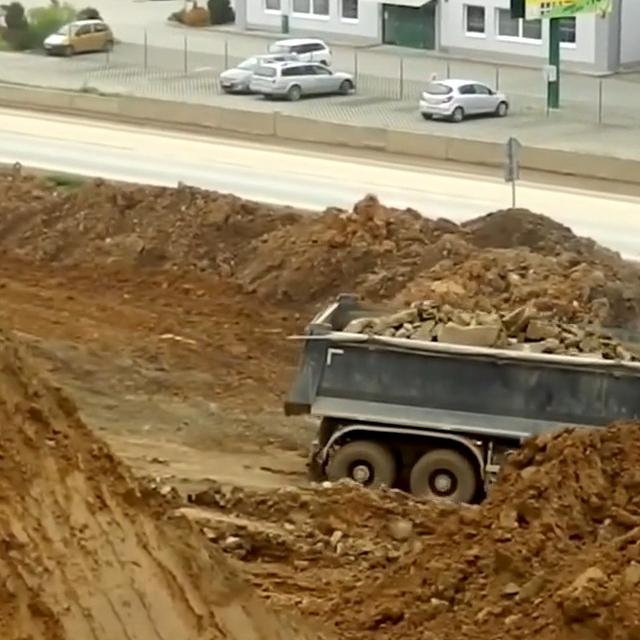dump truck: (279, 289, 640, 506)
mini-van: (265, 38, 333, 68)
sedan: (249, 62, 356, 102), (419, 79, 510, 123), (220, 54, 300, 94), (43, 20, 114, 56)
